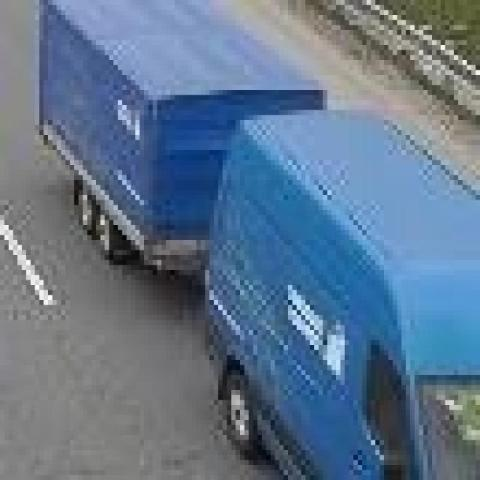van: (209, 109, 479, 480)
